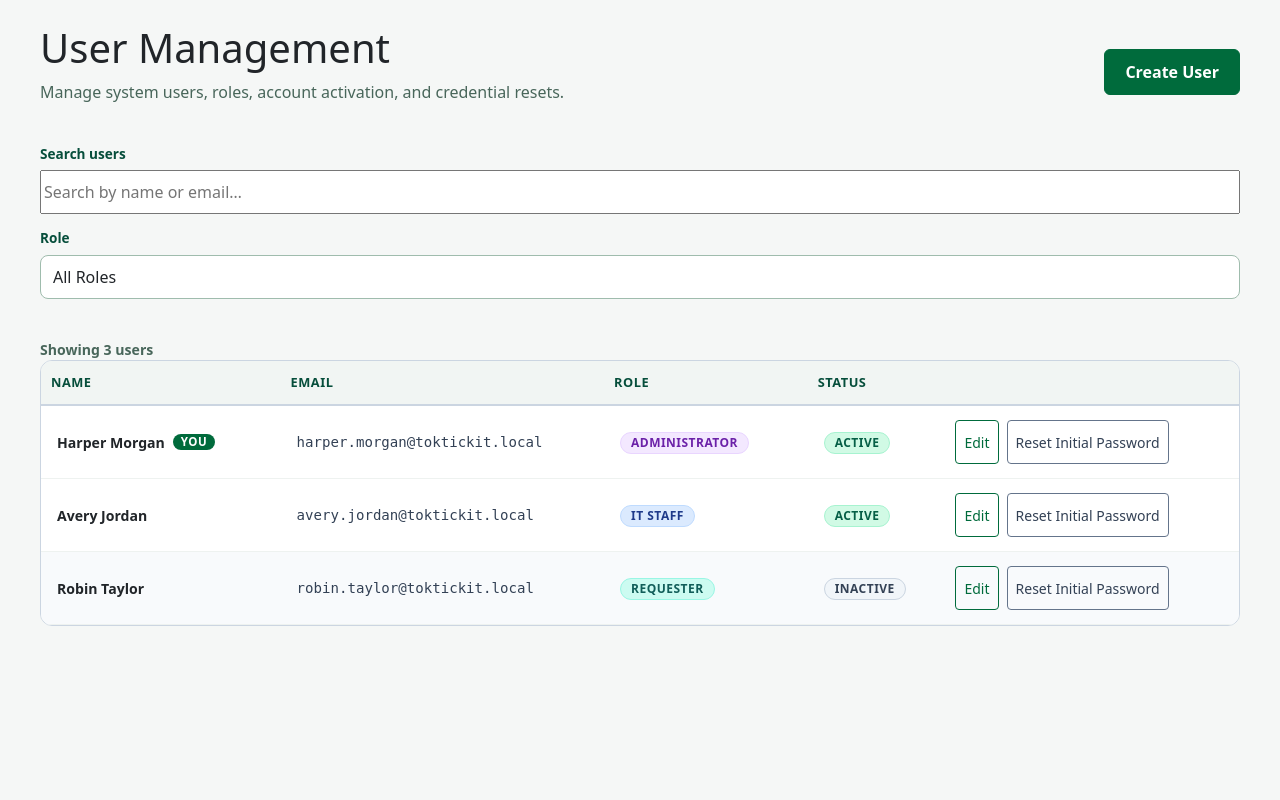
Test: UI-USER-01: Administrator User Management › prevents self-deactivation in edit dialog for current user
expect the text "Harper Morgan" is shown: met, box [57, 432, 165, 453]
# Edit Harper Morgan (id 1, who is currentUser)
Click the button with aria-label "Edit Harper Morgan" at (977, 442), box [956, 420, 999, 464]
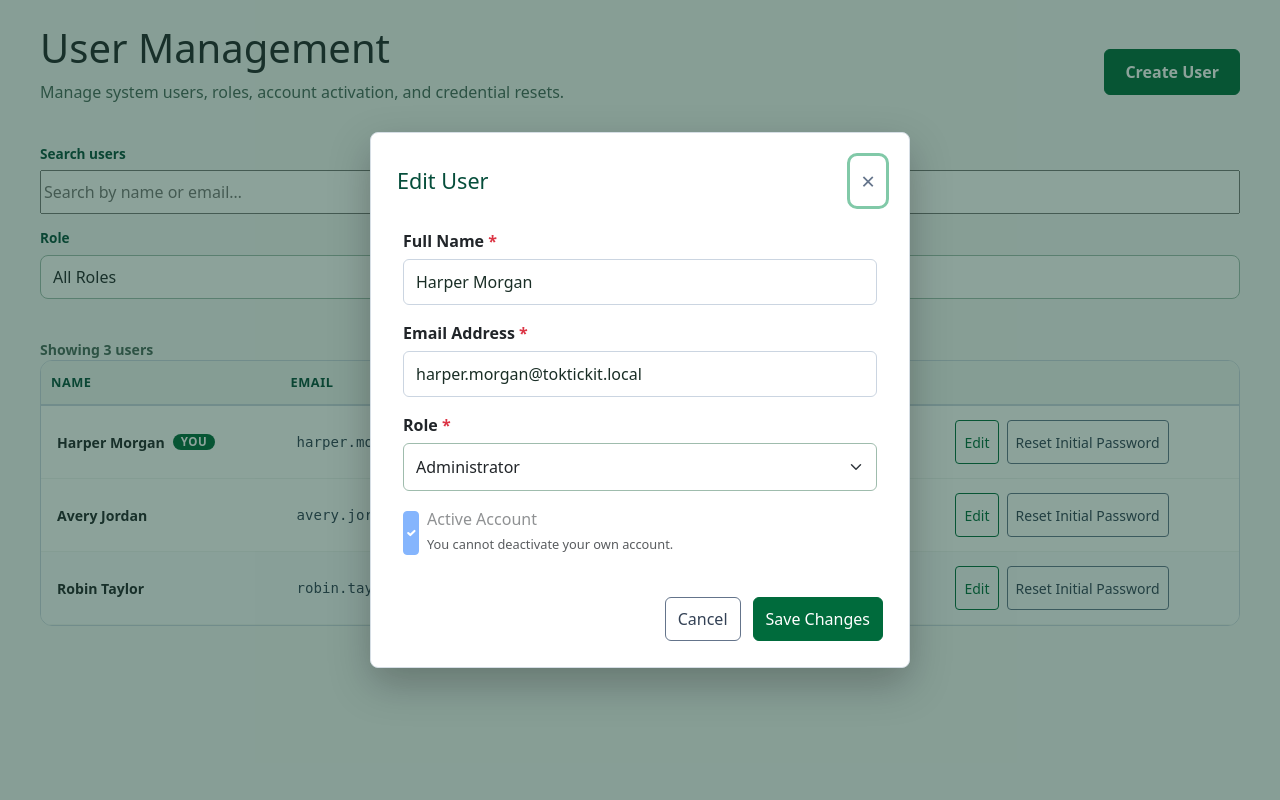
expect the dialog is shown: met, box [370, 132, 910, 668]
expect the checkbox labelled "Active Account" is disabled: met, box [403, 511, 419, 555]
expect the text "You cannot deactivate your own account." is shown: met, box [427, 535, 673, 553]
# Cancel dialog
Click the button "Cancel" at (703, 619), box [665, 597, 740, 641]
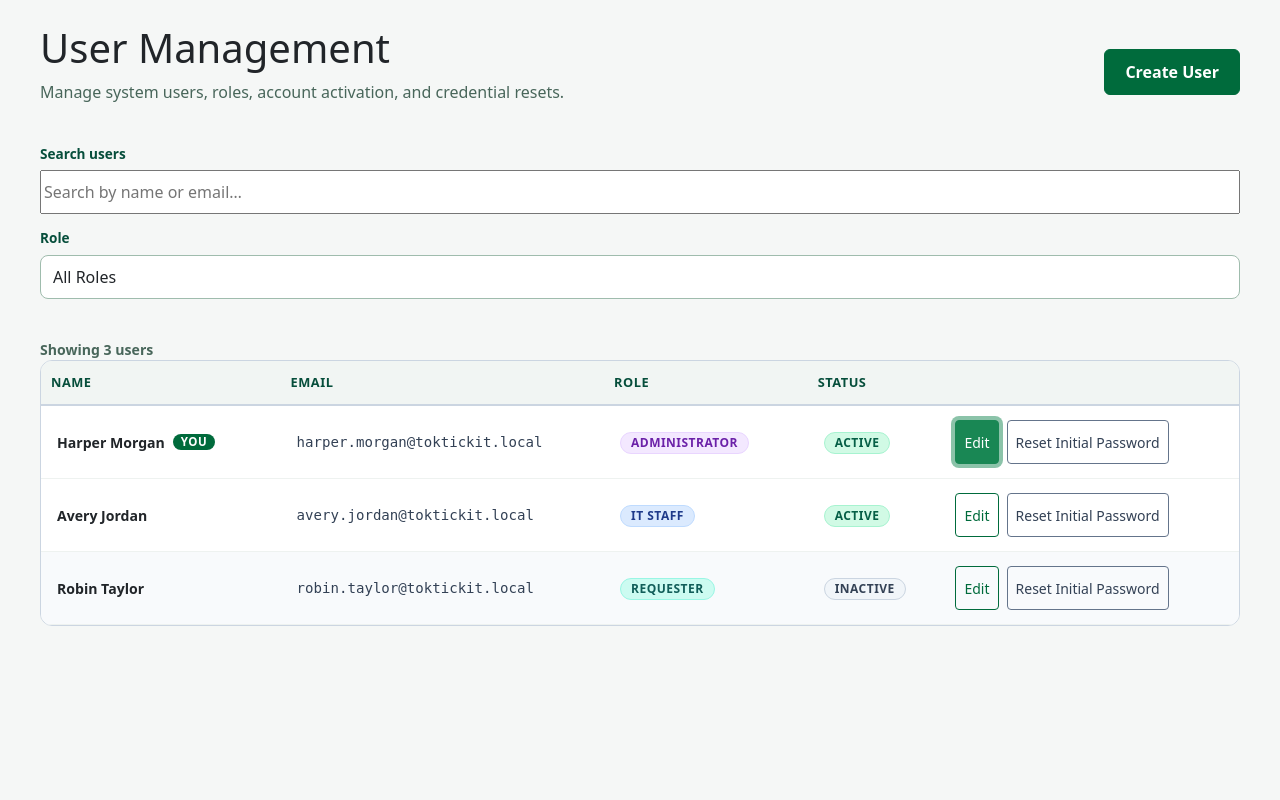
expect the dialog is gone: met
